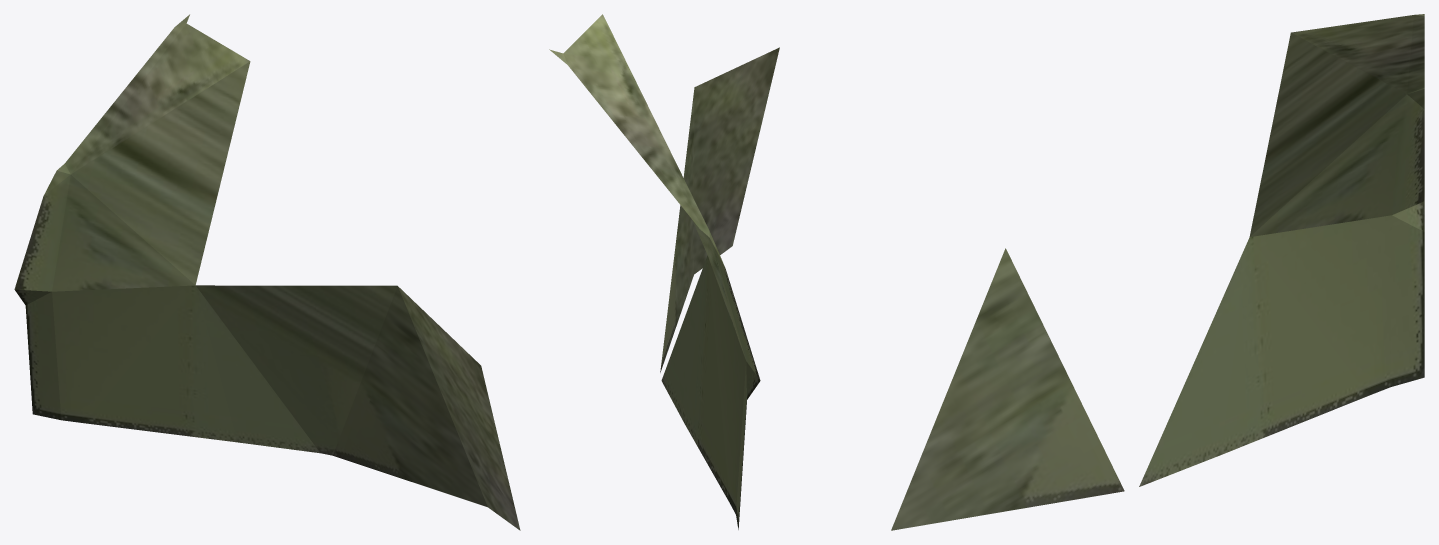
3 views of the same model, side by side, from view 1: azimuth 30°, elevation 25°; view 2: azimuth 150°, elevation 25°; view 3: azimuth 270°, elevation 25° (orthographic). The views are drawn at different scales.
Size of the model in its own units: 3.73 by 4.88 by 5.9.
2 materials, 2 textured.
